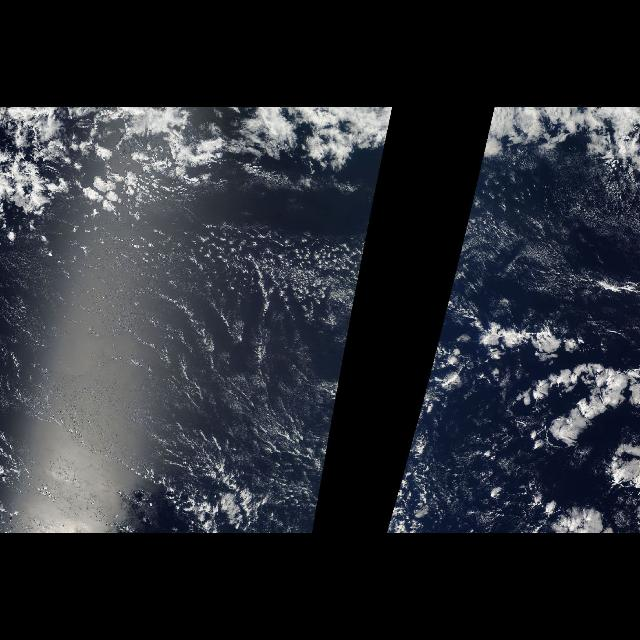Flower: (528, 313, 640, 533)
Sugar: (12, 223, 370, 521)
